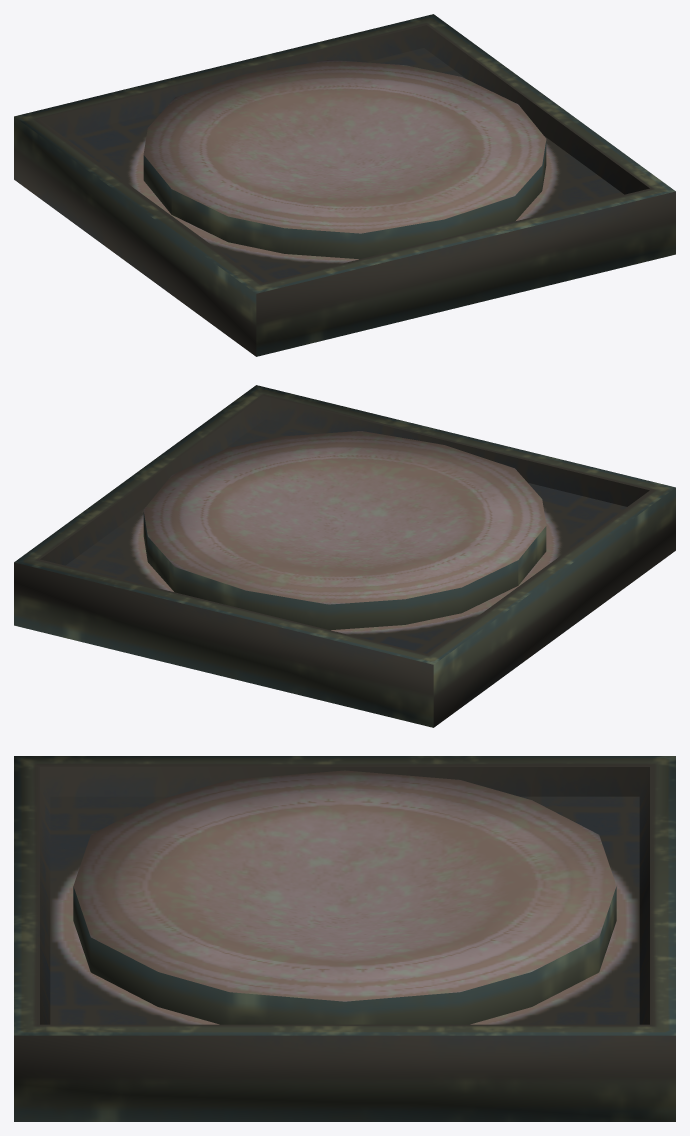
Rendered from S_GumpPud.fbx.
3 views of the same model, one above another, from view 1: azimuth 30°, elevation 25°; view 2: azimuth 150°, elevation 25°; view 3: azimuth 270°, elevation 25° (orthographic). The views are drawn at different scales.
Parts seen in each view (by area): view 1: S_GumpPud; view 2: S_GumpPud; view 3: S_GumpPud.
Part boxes in pixels (<box>): S_GumpPud: <box>14,14,675,356</box>; S_GumpPud: <box>14,385,675,727</box>; S_GumpPud: <box>14,756,675,1121</box>.
Bounding box in the file's own units: 200 × 32.02 × 200.
Materials: 1 (1 with a texture image).
